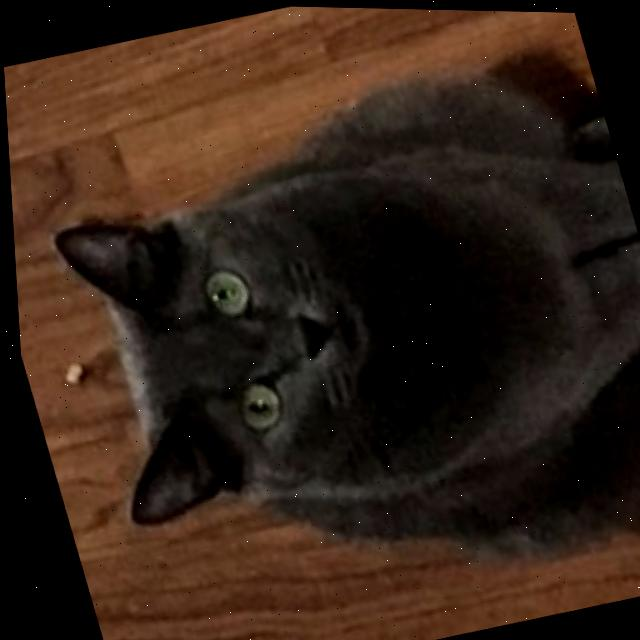Russian Blue: (10, 26, 640, 640)
